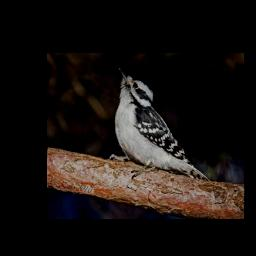Woodpecker: (106, 65, 209, 181)
